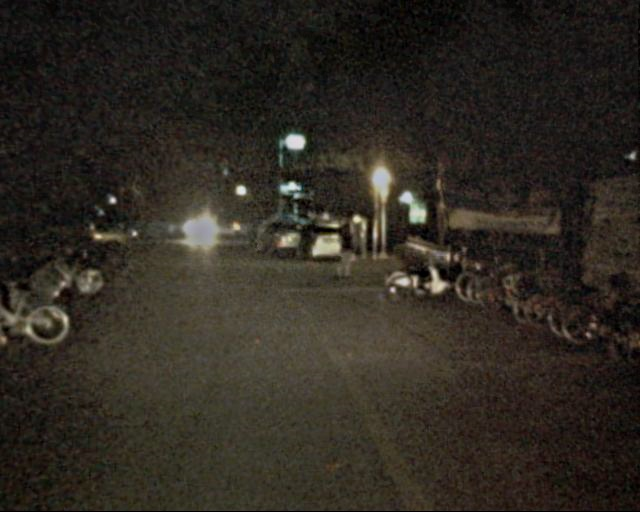person: (329, 225, 354, 286), (242, 222, 256, 256)
